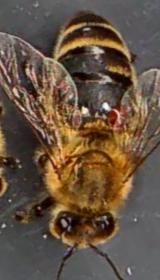varroa_mite: (101, 102, 130, 133)
